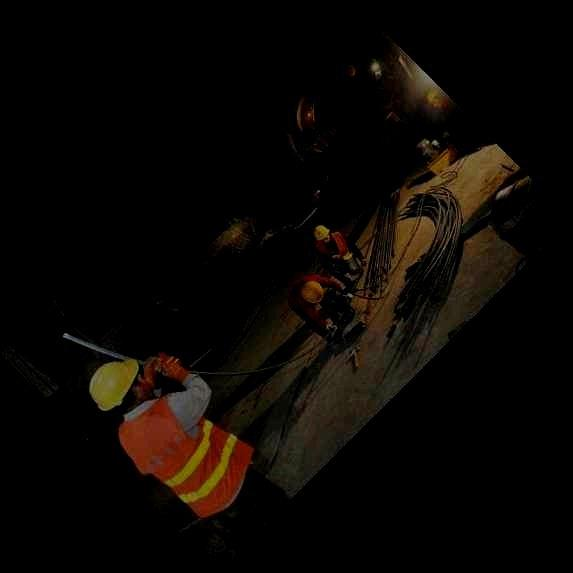helmet: (89, 358, 155, 412), (301, 280, 323, 303), (314, 225, 331, 244)
